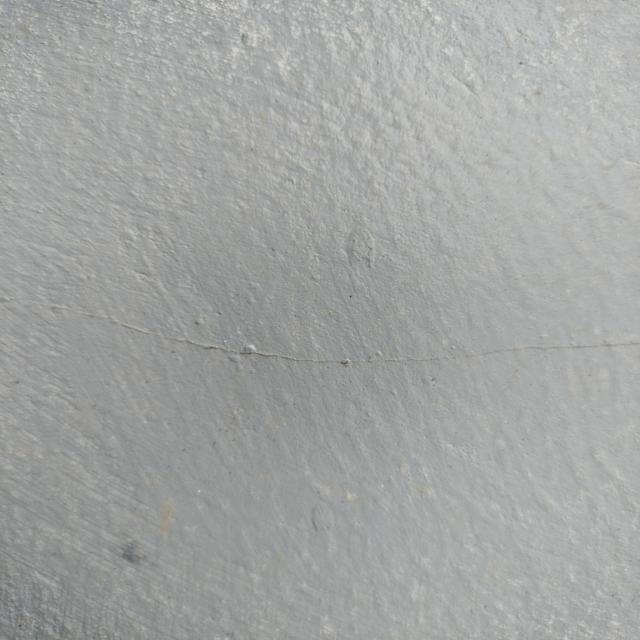Crack: (28, 291, 640, 370)
